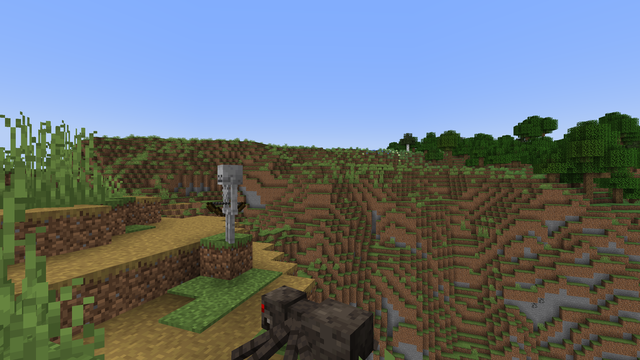araignees: (235, 274, 361, 357)
squelettes: (212, 164, 246, 244)
